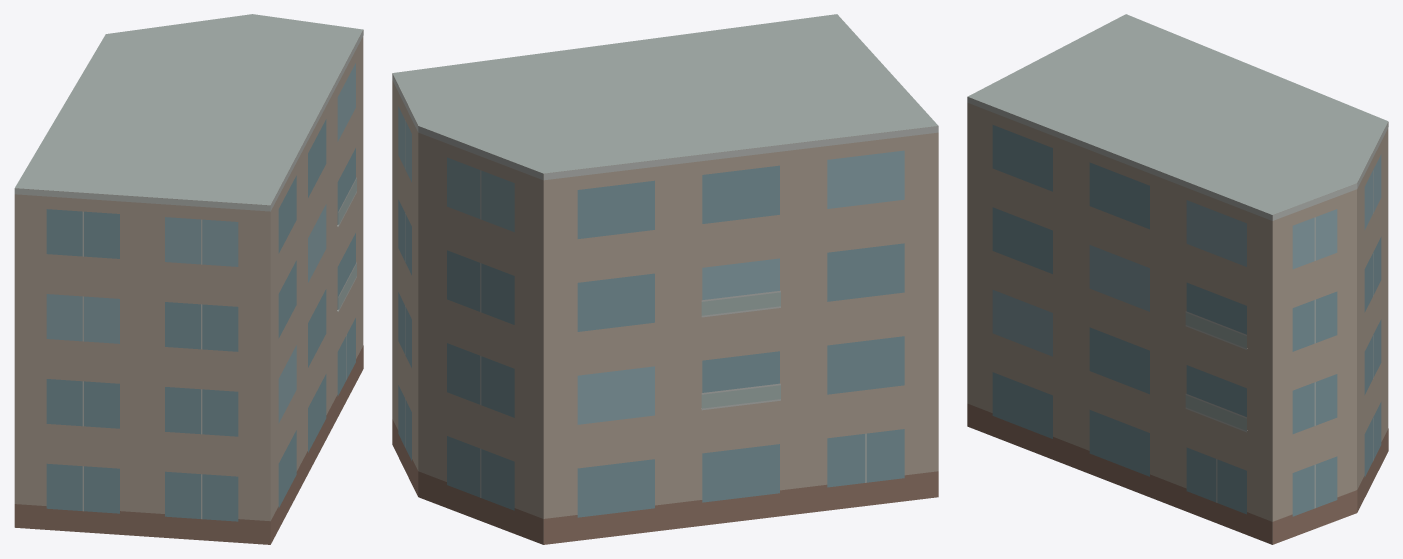
Rendered from survey-upis-32669814.glb.
The picture shows the model from 3 angles, left to right: view 1: azimuth 30°, elevation 25°; view 2: azimuth 150°, elevation 25°; view 3: azimuth 270°, elevation 25°; orthographic projection. The views are drawn at different scales.
Parts seen in each view (by area): view 1: survey-upis-32669814.tmp; view 2: survey-upis-32669814.tmp; view 3: survey-upis-32669814.tmp.
Boxes of the visible parts, bbox=[...] form: survey-upis-32669814.tmp: bbox=[14, 14, 363, 544]; survey-upis-32669814.tmp: bbox=[392, 14, 938, 544]; survey-upis-32669814.tmp: bbox=[967, 14, 1388, 544].
Bounding box in the file's own units: 17.59 × 13.45 × 15.57.
